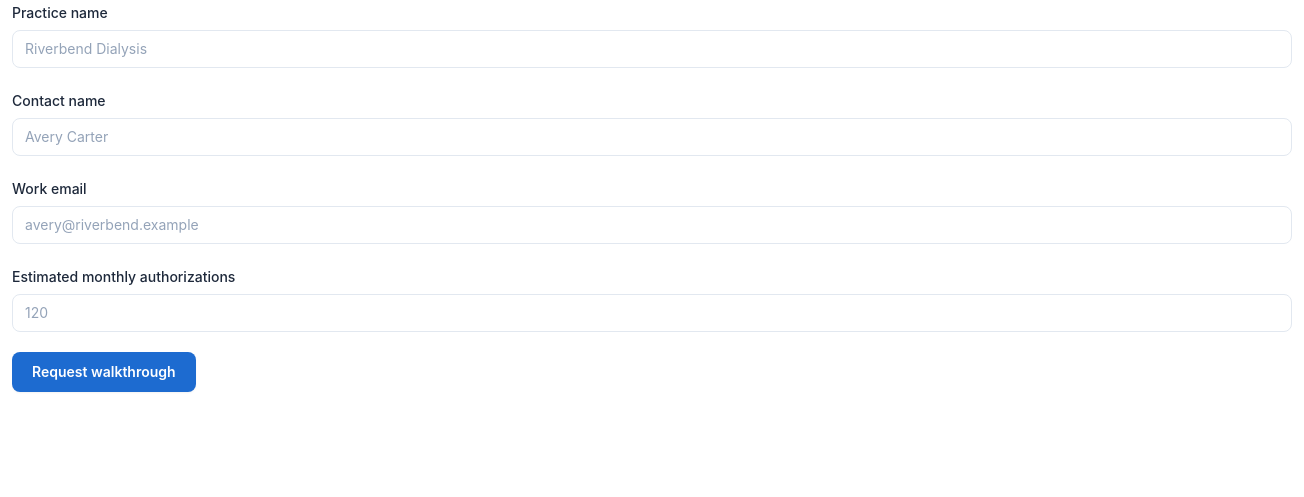
Scenario: IntakeForm › shows validation messages on empty submit
Click the button "Request walkthrough" at coordinates (104, 372), box [12,352,196,392]
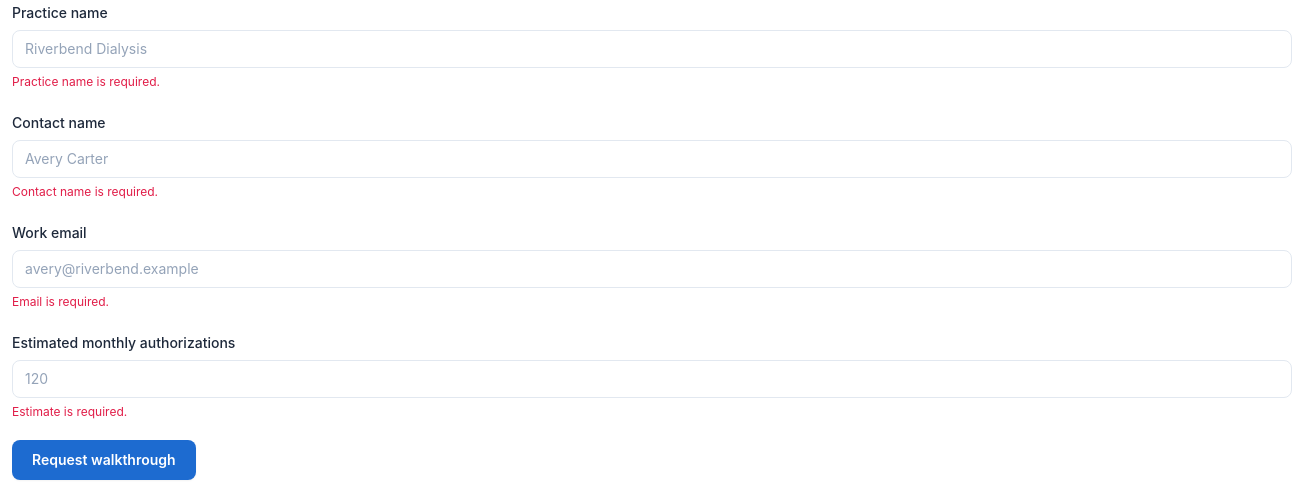
Expected: the text "Practice name is required." is shown, [12,74,160,89]
Expected: the text "Contact name is required." is shown, [12,184,158,199]
Expected: the text "Email is required." is shown, [12,294,109,309]
